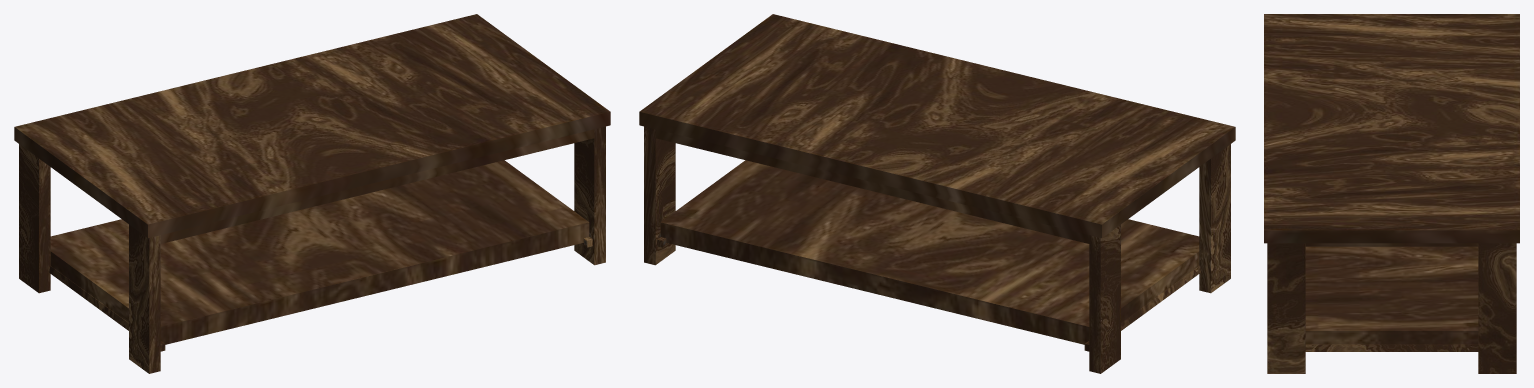
The model's file is WoodenLowTable.obj.
3 renders of one model, left to right at view 1: azimuth 30°, elevation 25°; view 2: azimuth 150°, elevation 25°; view 3: azimuth 270°, elevation 25°, orthographic. The views are drawn at different scales.
Visible parts, largest first — view 1: Wooden_Low_Table; view 2: Wooden_Low_Table; view 3: Wooden_Low_Table.
Boxes of the visible parts, x1,y1,x2,y2 form: Wooden_Low_Table: [14, 14, 610, 373]; Wooden_Low_Table: [639, 14, 1235, 373]; Wooden_Low_Table: [1264, 14, 1519, 373].
Size of the model in its own units: 1.6 by 0.5 by 0.8.
